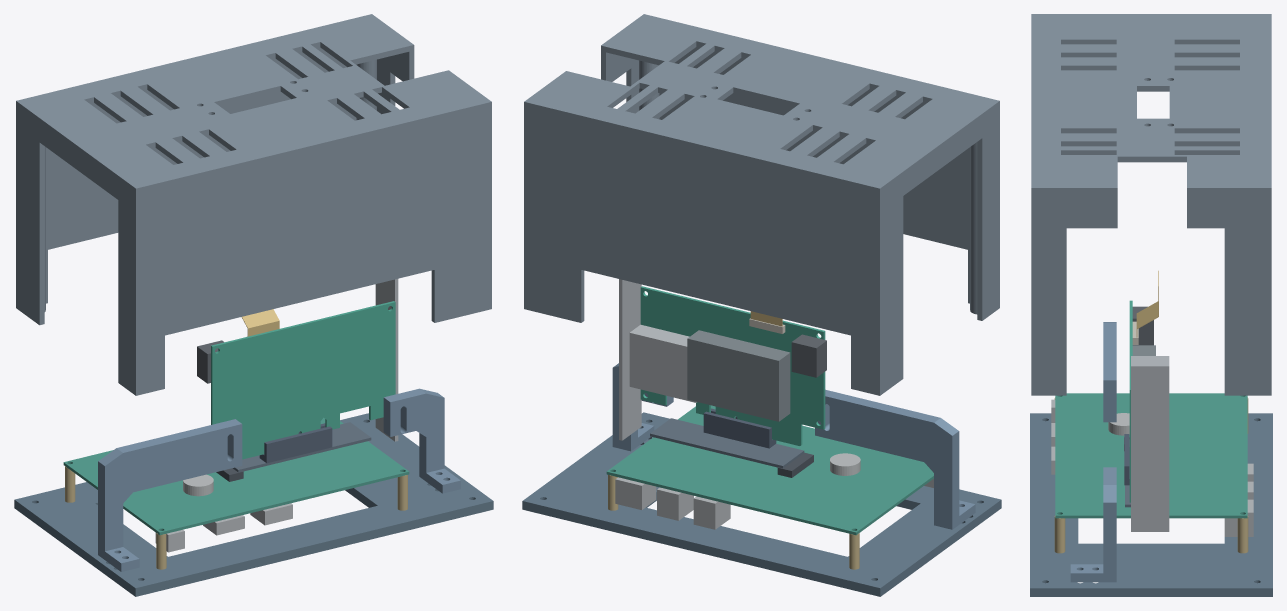
The model's file is 05_assembly.glb.
The picture shows the model from 3 angles, left to right: view 1: azimuth 30°, elevation 25°; view 2: azimuth 150°, elevation 25°; view 3: azimuth 270°, elevation 25°; orthographic projection.
Visible parts, largest first — view 1: Cover (lifted), 01_base, PFAC100 PCB, RK03 PCB, 02_fpga_power_end_brace, 03_fpga_sfp_end_brace, PH47 PCIe slot, RK ports, PH47 adapter PCB, RK standoffs, FPGA I-O bracket, Camera FFC route; view 2: Cover (lifted), 01_base, RK03 PCB, PFAC100 PCB, 02_fpga_power_end_brace, FPGA heatsink, FPGA SFP cages, RK ports, PH47 adapter PCB, FPGA I-O bracket, PH47 PCIe slot, FPGA 12V connector (+3 smaller); view 3: Cover (lifted), 01_base, RK03 PCB, FPGA I-O bracket, 03_fpga_sfp_end_brace, 02_fpga_power_end_brace, RK ports, RK standoffs, PFAC100 PCB, FPGA 12V connector, Camera FFC route, RTC battery.
Part boxes in pixels (x1,y1,x2,y2): Cover (lifted): [16, 14, 491, 395]; 01_base: [14, 413, 493, 596]; PFAC100 PCB: [211, 301, 395, 459]; RK03 PCB: [63, 417, 409, 535]; 02_fpga_power_end_brace: [98, 419, 242, 571]; 03_fpga_sfp_end_brace: [383, 388, 460, 493]; PH47 PCIe slot: [259, 423, 332, 463]; RK ports: [155, 503, 292, 552]; PH47 adapter PCB: [233, 422, 371, 472]; RK standoffs: [65, 466, 407, 569]; FPGA I-O bracket: [375, 279, 398, 441]; Camera FFC route: [241, 309, 279, 336]; Cover (lifted): [524, 14, 999, 395]; 01_base: [522, 412, 1001, 596]; RK03 PCB: [606, 405, 933, 535]; PFAC100 PCB: [640, 286, 825, 445]; 02_fpga_power_end_brace: [815, 389, 975, 529]; FPGA heatsink: [687, 330, 790, 421]; FPGA SFP cages: [629, 324, 696, 402]; RK ports: [615, 477, 933, 529]; PH47 adapter PCB: [650, 418, 804, 468]; FPGA I-O bracket: [619, 279, 641, 440]; PH47 PCIe slot: [703, 408, 776, 448]; FPGA 12V connector: [791, 334, 826, 377]; Cover (lifted): [1031, 14, 1271, 395]; 01_base: [1030, 413, 1272, 596]; RK03 PCB: [1055, 393, 1247, 518]; FPGA I-O bracket: [1131, 356, 1169, 531]; 03_fpga_sfp_end_brace: [1070, 467, 1116, 582]; 02_fpga_power_end_brace: [1103, 322, 1116, 422]; RK ports: [1051, 399, 1253, 536]; RK standoffs: [1054, 397, 1248, 553]; PFAC100 PCB: [1129, 300, 1132, 502]; FPGA 12V connector: [1132, 306, 1153, 345]; Camera FFC route: [1136, 270, 1158, 337]; RTC battery: [1108, 413, 1129, 435].
Size of the model in its own units: 0.215 by 0.234 by 0.126.
